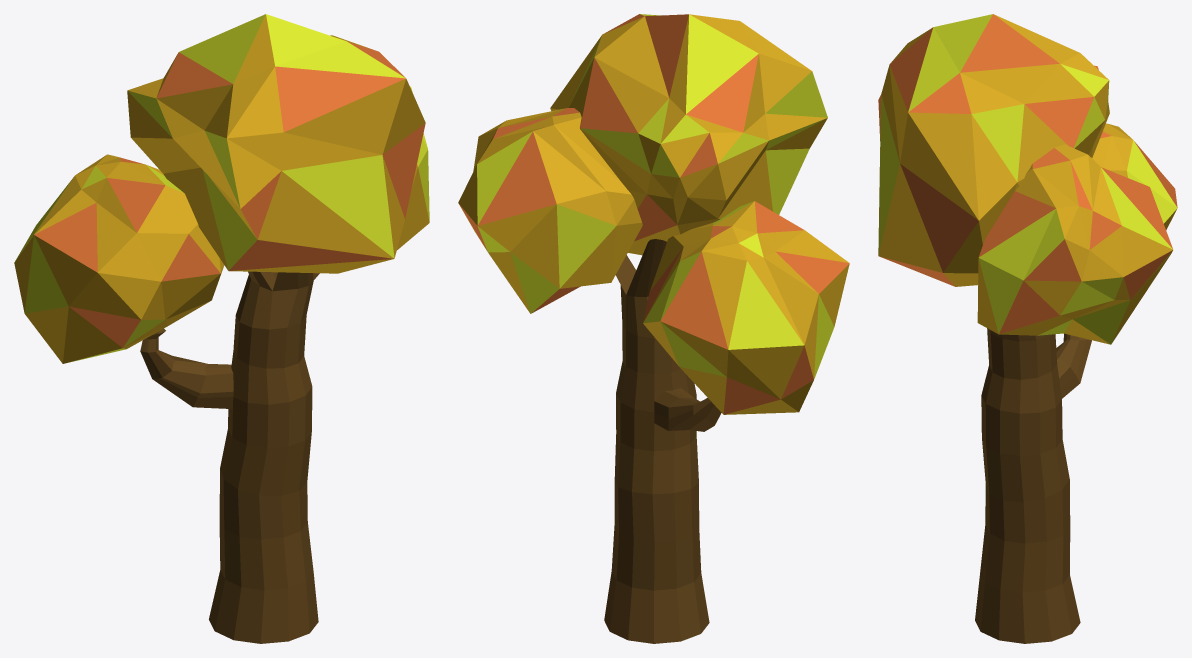
File: Tree05.fbx
3 views of the same model, side by side, from view 1: azimuth 30°, elevation 25°; view 2: azimuth 150°, elevation 25°; view 3: azimuth 270°, elevation 25° (orthographic). The views are drawn at different scales.
Parts seen in each view (by area): view 1: Tree.001; view 2: Tree.001; view 3: Tree.001.
Boxes of the visible parts, x1,y1,x2,y2 form: Tree.001: (14, 14, 429, 643); Tree.001: (458, 14, 849, 643); Tree.001: (878, 14, 1177, 643).
Size of the model in its own units: 212 by 343 by 155.
